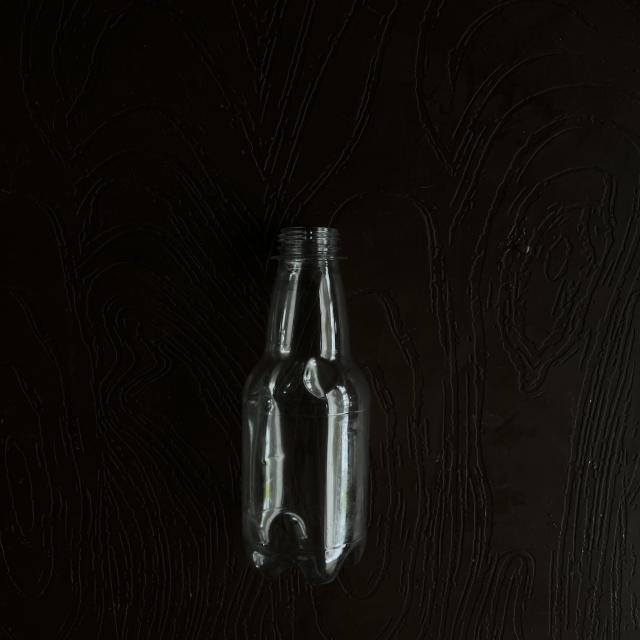PET_ClearBottle: (235, 223, 386, 579)
